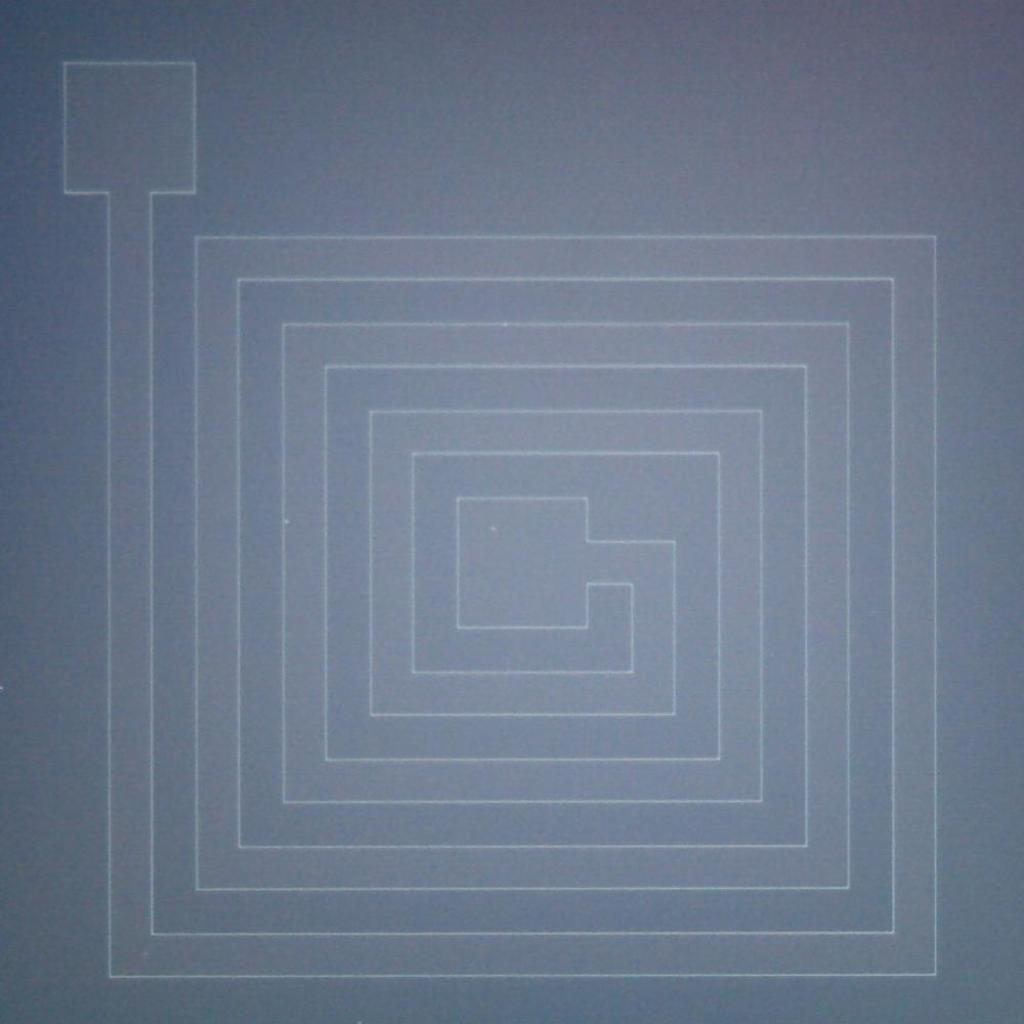dot: (492, 526, 496, 531), (285, 520, 289, 524), (0, 686, 4, 690)
